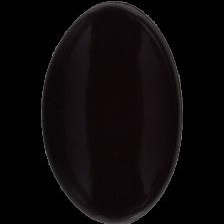63044-622: (0, 0, 224, 224)
